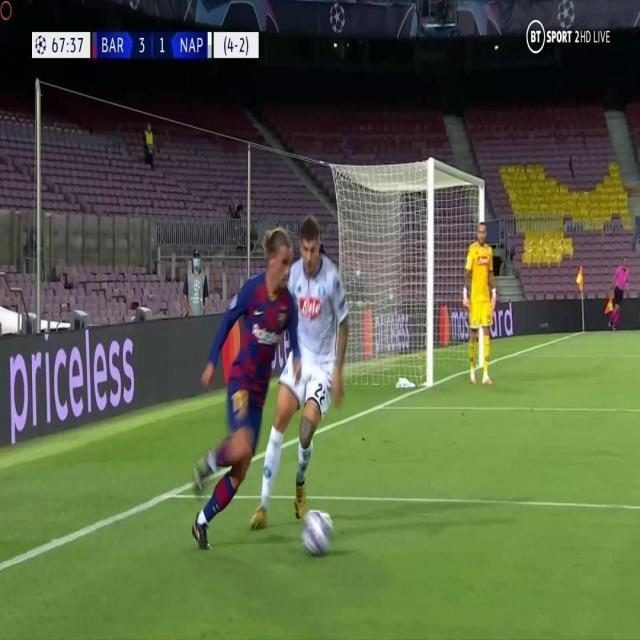ball: (300, 500, 339, 561)
goalkeeper: (458, 214, 499, 389)
player: (182, 228, 306, 549), (251, 210, 364, 537)
referee: (604, 257, 629, 330)
